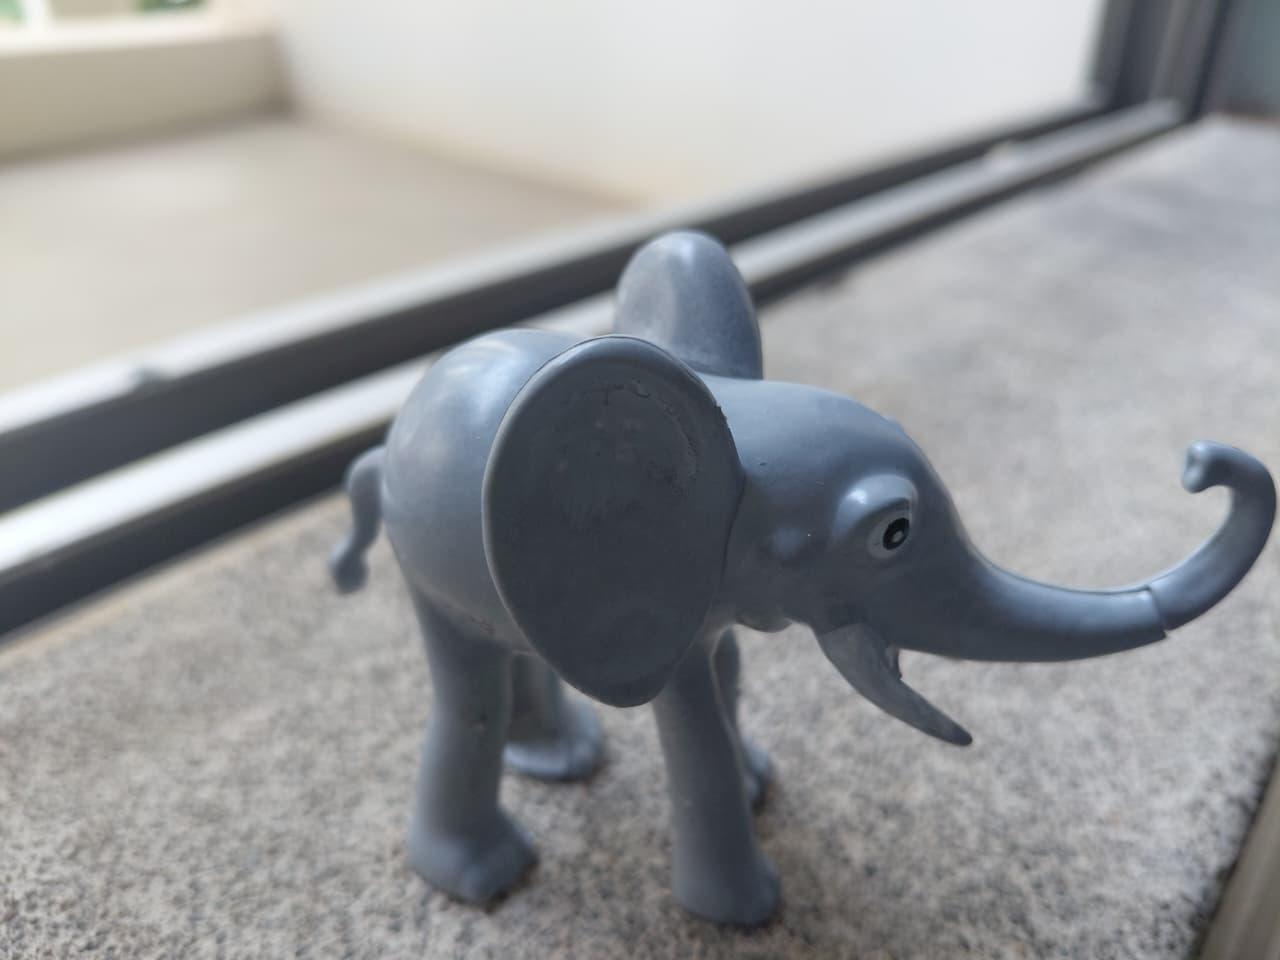elephant: (318, 225, 1275, 930)
